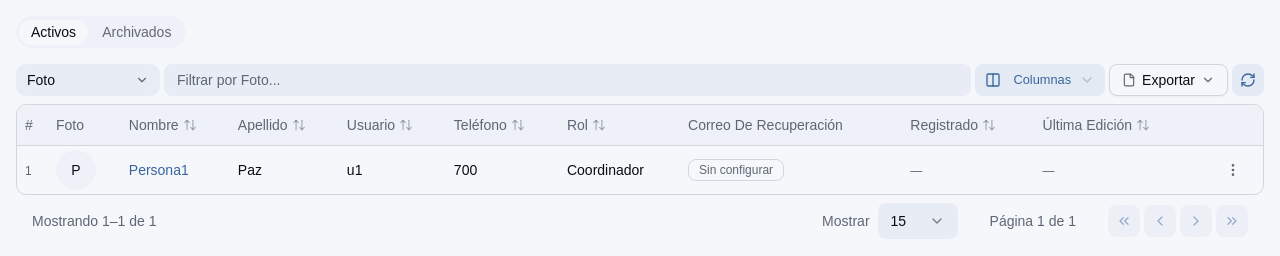
Test: bringing an archived account back › is offered to somebody who may archive accounts
This screenshot has width=1280, height=256.
Click the tab "Archivados": (137, 32) left=89, top=18, right=184, bottom=46
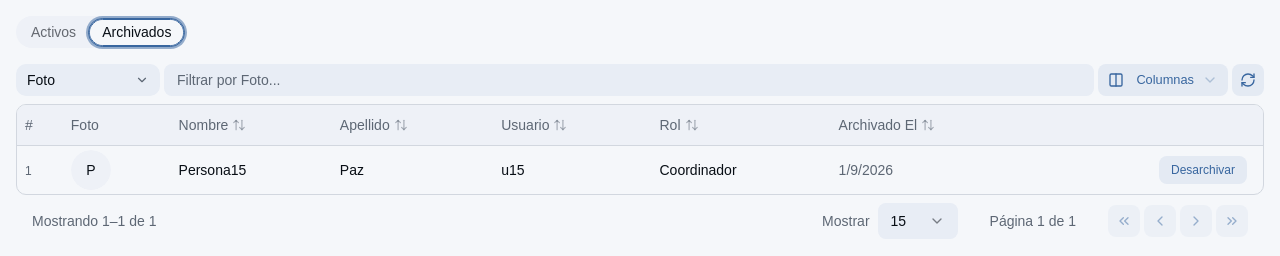
Now the text "Persona15" is shown, box left=171, top=145, right=332, bottom=194
Now the button "Desarchivar" is shown, box left=1159, top=156, right=1247, bottom=184
